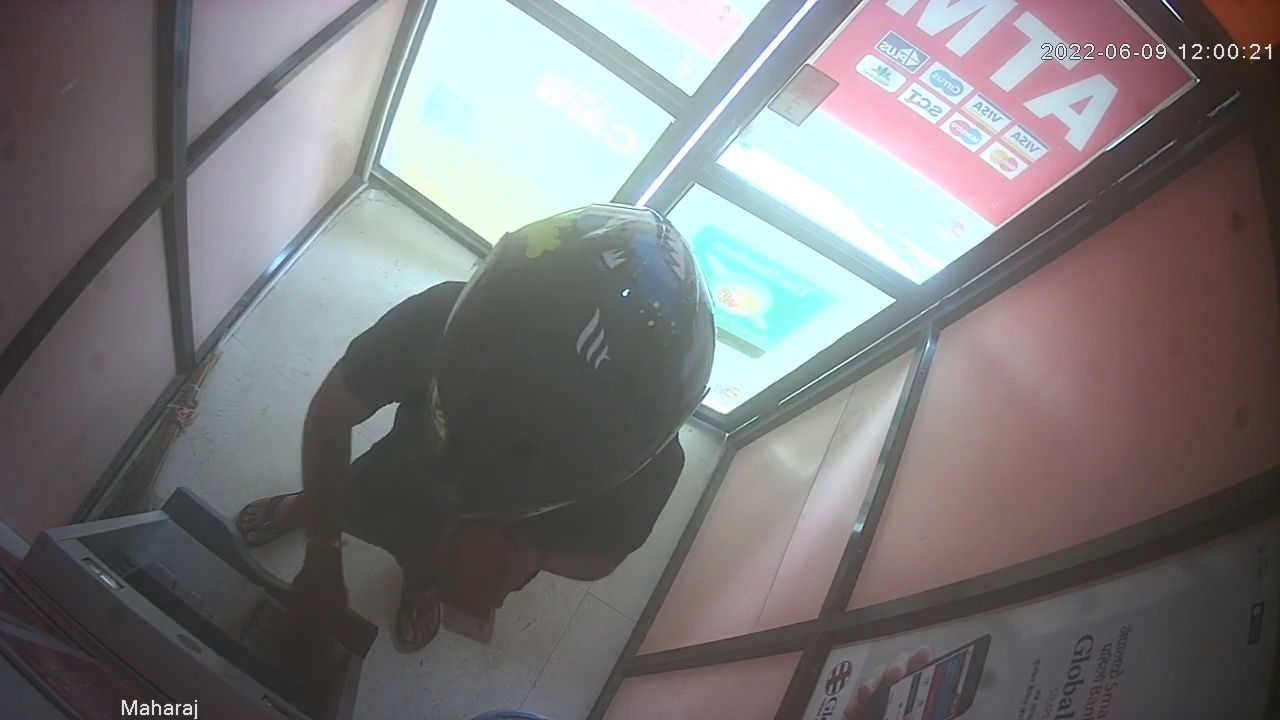helmet: (415, 200, 716, 522)
person: (235, 202, 719, 660)
